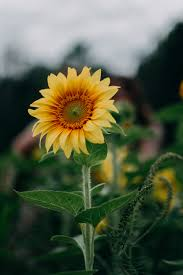flower: (25, 59, 130, 161)
